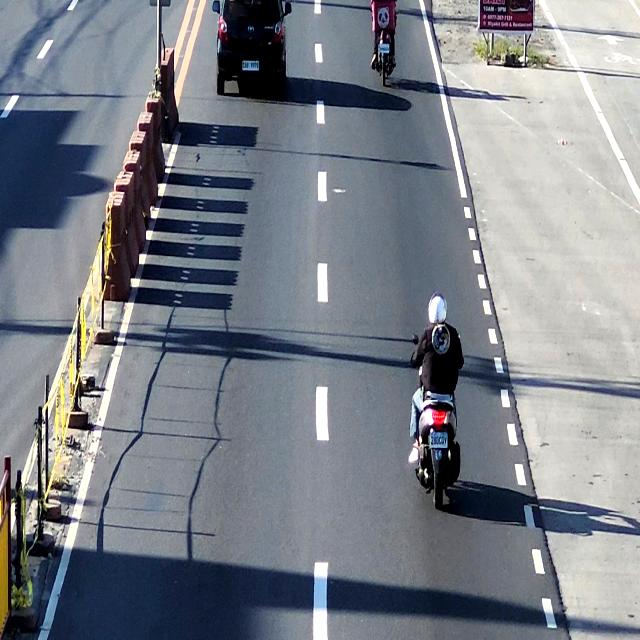Car: (212, 0, 290, 95)
License-Plate: (427, 429, 451, 451), (241, 60, 262, 74), (376, 45, 392, 54)
Motorcycle: (413, 295, 463, 512), (368, 0, 400, 86)
